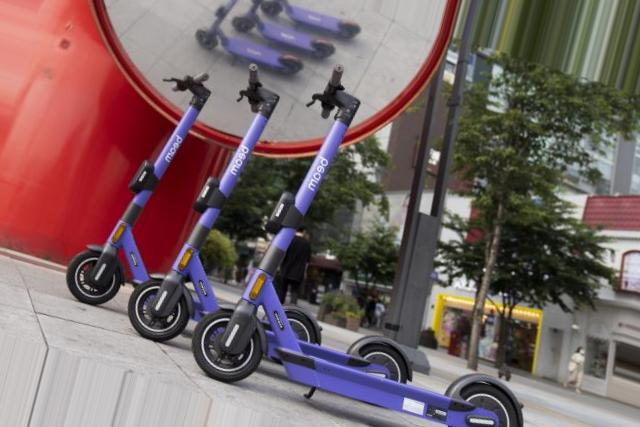scooter: (191, 59, 527, 427), (127, 63, 415, 404), (66, 72, 324, 366)
